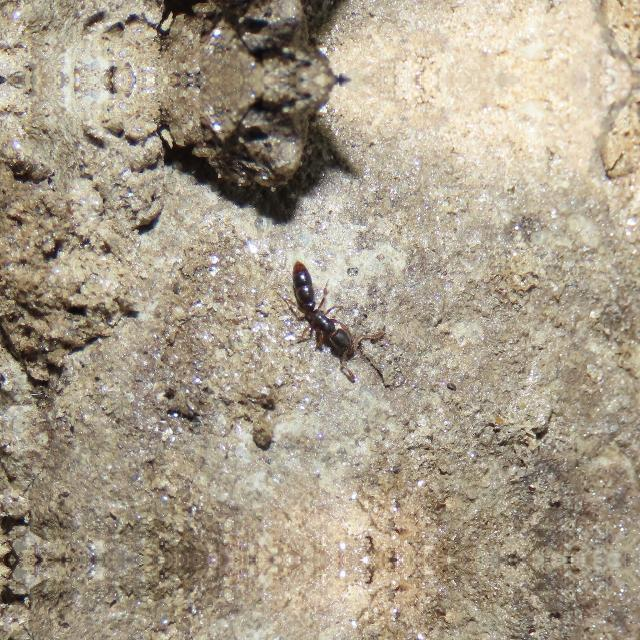Ponera: (271, 240, 387, 382)
